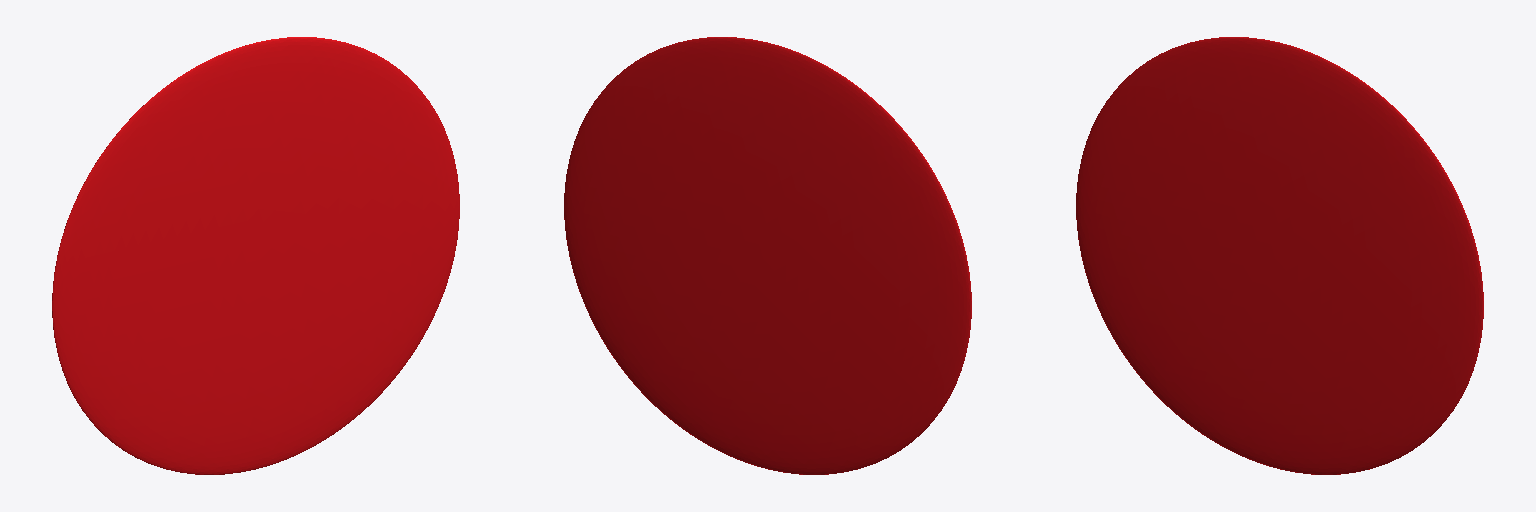
Rendered from target.obj.
The picture shows the model from 3 angles: view 1: azimuth 30°, elevation 25°; view 2: azimuth 150°, elevation 25°; view 3: azimuth 330°, elevation 25°; orthographic projection.
Parts seen in each view (by area): view 1: Object.1; view 2: Object.1; view 3: Object.1.
Part boxes in pixels (x1,y1,x2,y2): Object.1: (52, 37, 459, 474); Object.1: (564, 37, 971, 474); Object.1: (1076, 37, 1483, 474).
Bounding box in the file's own units: 31.36 × 31.36 × 1.23.